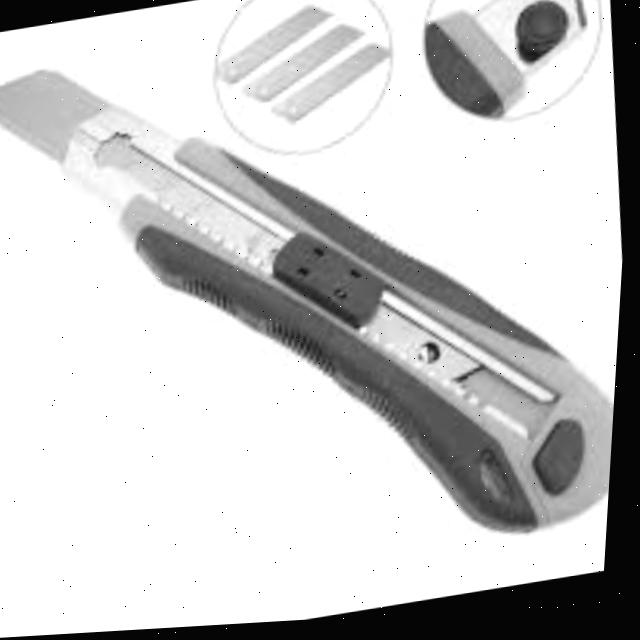Knife: (0, 0, 640, 621)
